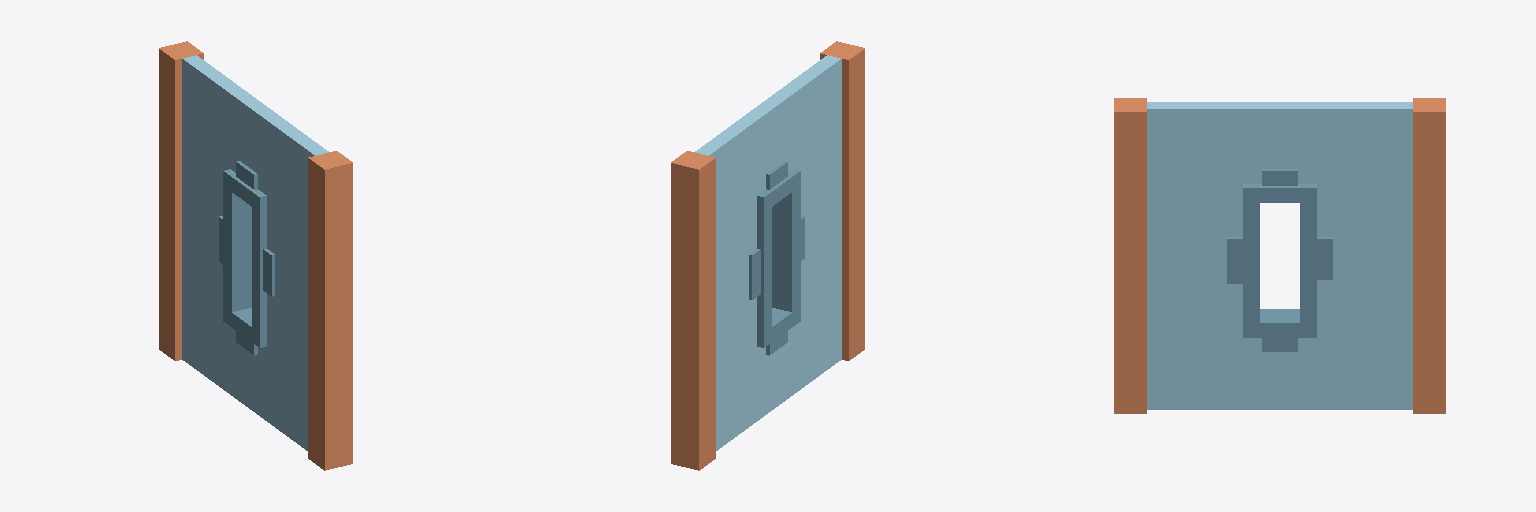
File: wallWindowStone.obj
3 views of the same model, side by side, from view 1: azimuth 30°, elevation 25°; view 2: azimuth 150°, elevation 25°; view 3: azimuth 270°, elevation 25° (orthographic).
Parts seen in each view (by area): view 1: wallWindowStone; view 2: wallWindowStone; view 3: wallWindowStone.
Boxes of the visible parts, x1,y1,x2,y2 form: wallWindowStone: [159, 41, 352, 470]; wallWindowStone: [671, 41, 864, 470]; wallWindowStone: [1114, 98, 1445, 413].
Size of the model in its own units: 0.1 by 1 by 1.